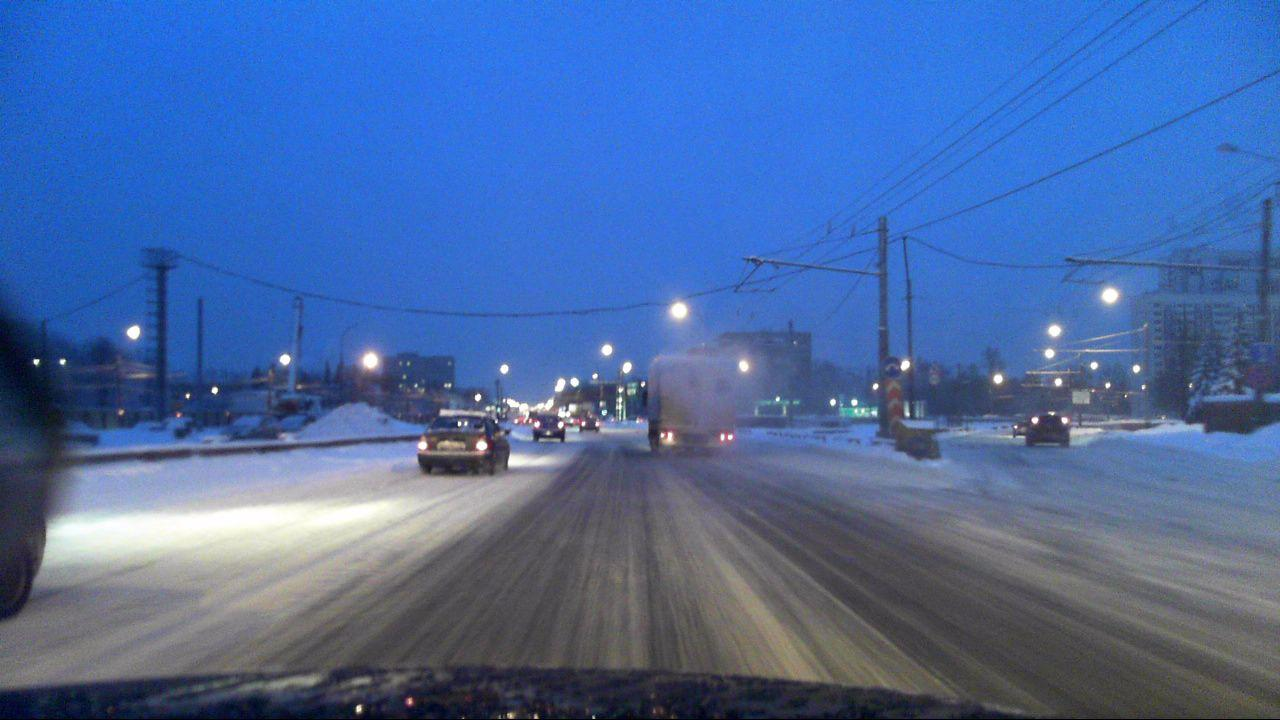obstructed_road_sign: (885, 379, 904, 434)
road_sign: (881, 356, 903, 378)
